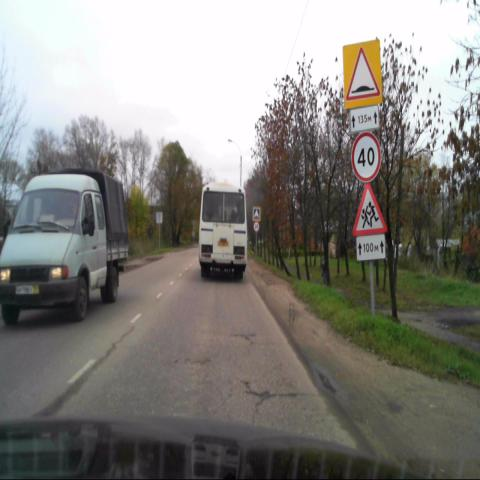8_2_1: (350, 105, 379, 132)
